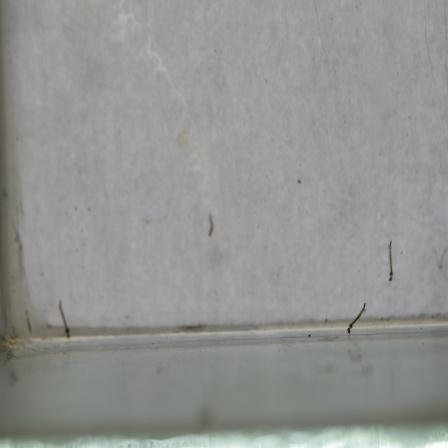Jentik-Nyamuk: (345, 300, 369, 337), (56, 296, 73, 342), (384, 236, 399, 284)
